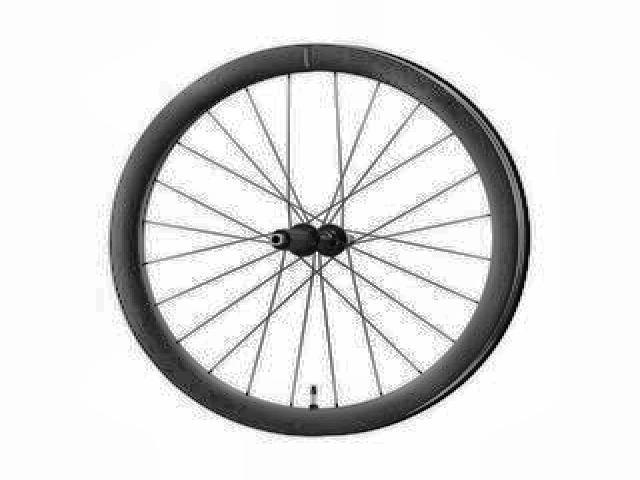wheel: (101, 39, 536, 444)
